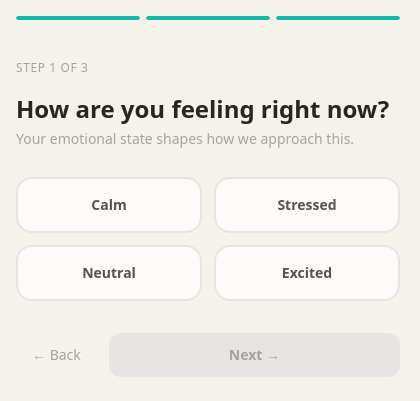
Test: PrechatScreen › Back on step 2 returns to step 1
Click the button "Calm": (109, 204) 16,176 -> 202,232
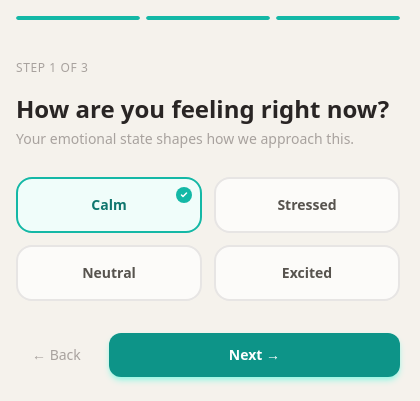
Click the button "Next →": (254, 354) 109,332 -> 400,376
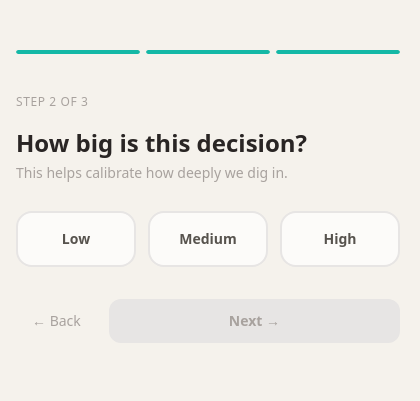
Click the button "← Back": (56, 320) 16,298 -> 97,342
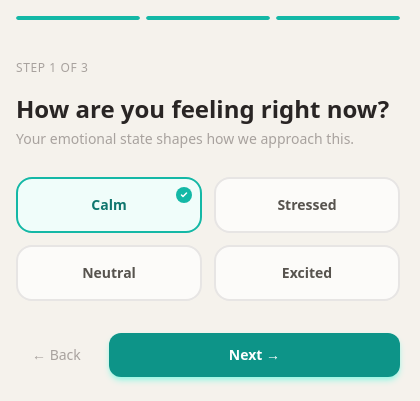
Expected: the heading "How are you feeling right now?" is shown, 16,92 -> 400,124
